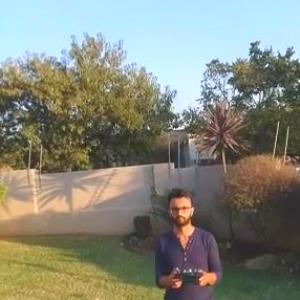follow: (150, 182, 227, 299)
